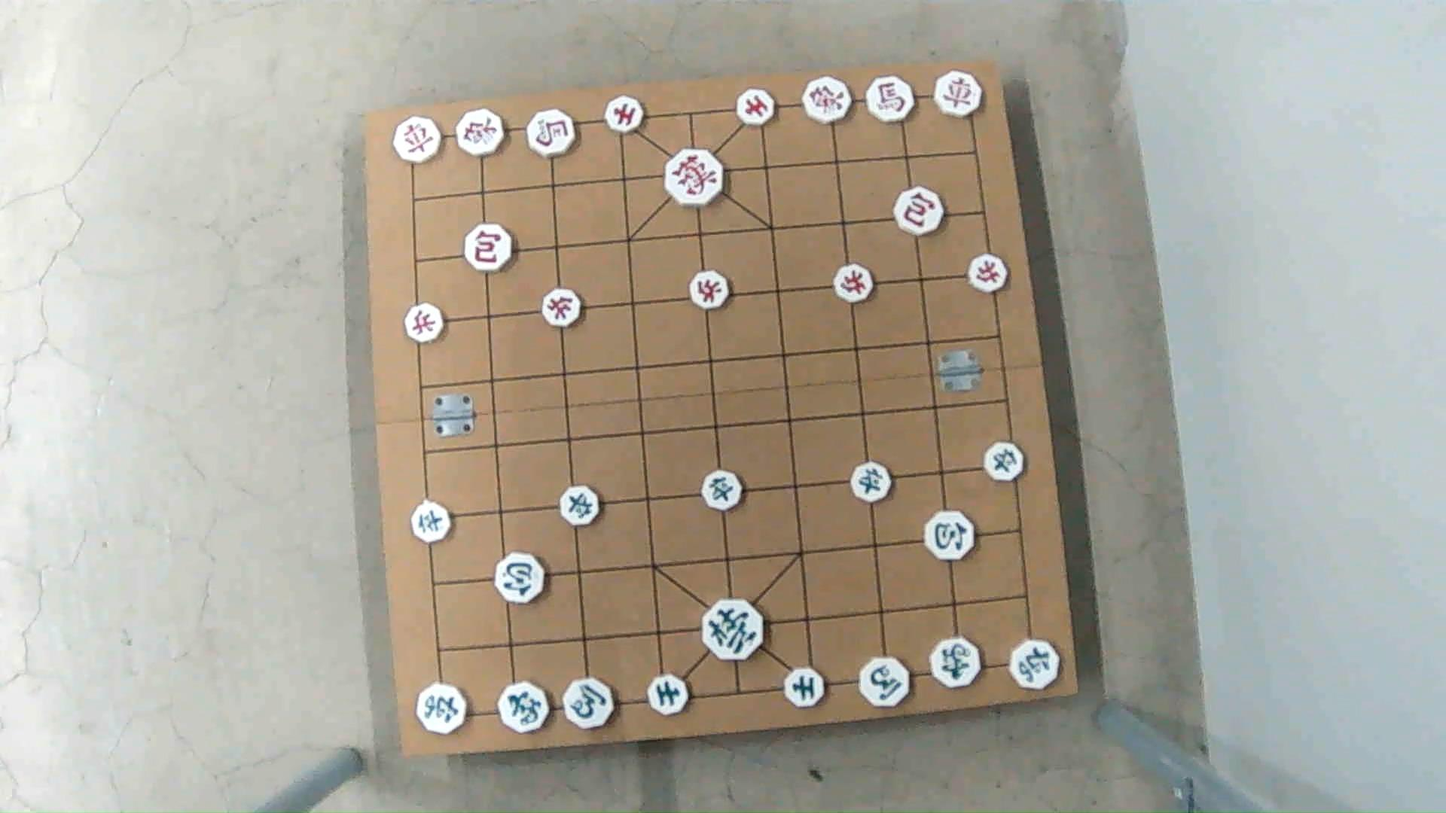cha_green: (413, 680, 469, 733), (1005, 643, 1061, 689)
cha_red: (933, 73, 985, 117), (393, 119, 446, 161)
jol_green: (409, 503, 454, 540), (849, 465, 895, 501), (981, 445, 1027, 481), (555, 489, 601, 525), (697, 472, 742, 507)
jol_red: (831, 267, 876, 302), (689, 273, 733, 308), (538, 292, 582, 327), (403, 306, 446, 341), (966, 257, 1010, 291)
ma_green: (859, 659, 914, 707), (560, 683, 617, 729)
ma_red: (526, 114, 578, 157), (864, 79, 917, 121)
po_green: (490, 556, 548, 601), (923, 515, 977, 560)
po_red: (892, 192, 945, 236), (462, 226, 514, 269)
sa_green: (645, 674, 688, 714), (784, 668, 828, 706)
sa_red: (604, 98, 648, 132), (734, 90, 777, 123)
sang_green: (496, 683, 550, 730), (929, 638, 984, 684)
sang_red: (456, 108, 507, 155), (801, 79, 852, 122)
wang_green: (699, 602, 766, 659)
wang_red: (664, 154, 727, 206)
